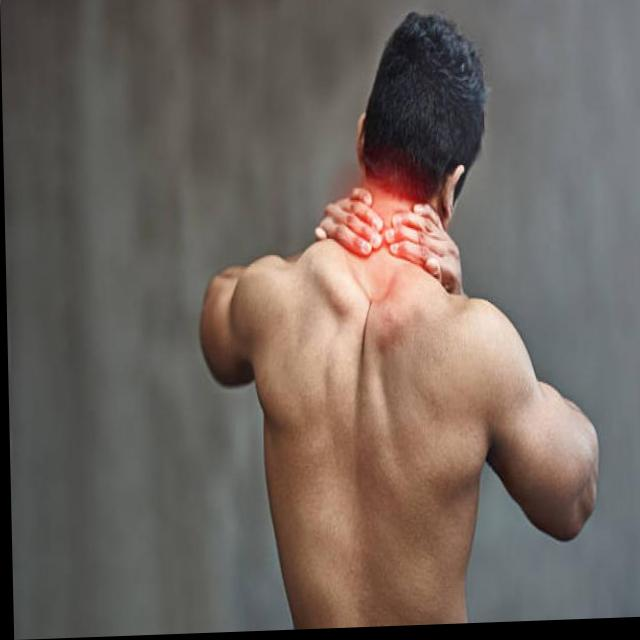no helmet: (352, 13, 492, 227)
